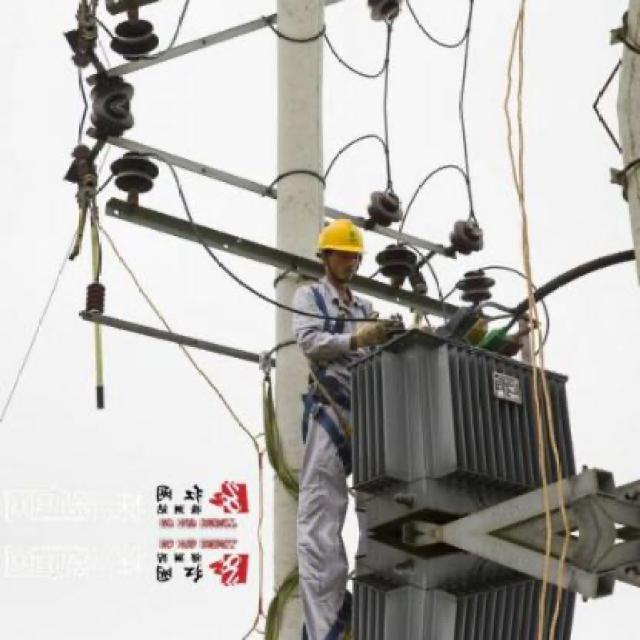con casco: (298, 214, 378, 286)
